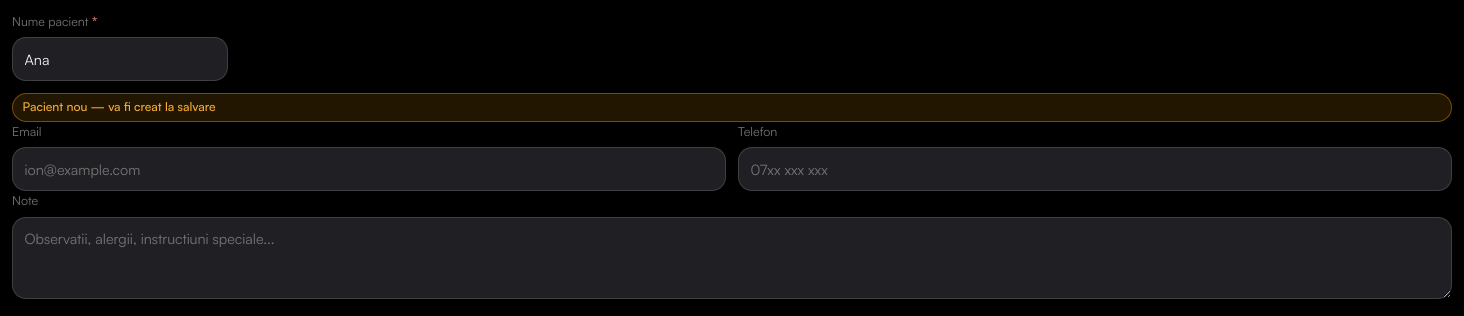
Test case: ClientSection › supports keyboard navigation and selection in the autocomplete dropdown
Focus the dropdown labelled "Nume pacient *" at (120, 59), box [12,37,228,81]
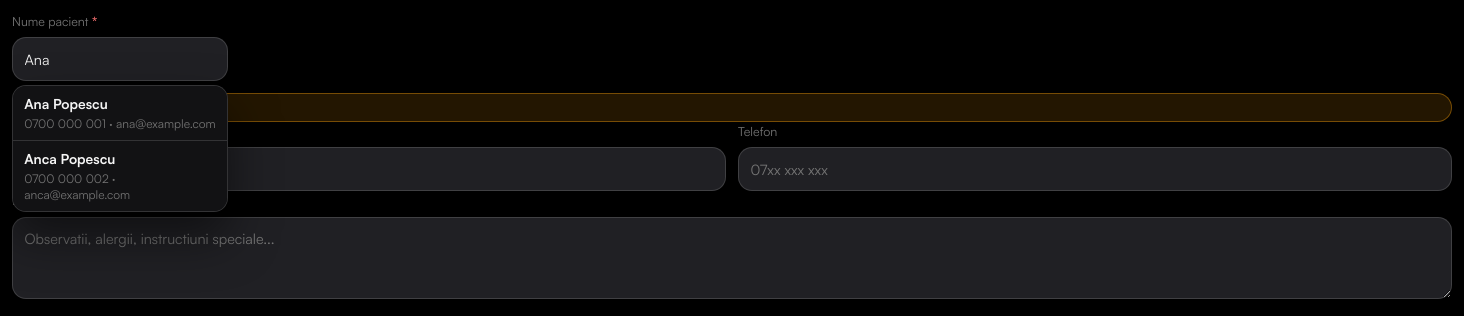
Press ArrowDown in the dropdown labelled "Nume pacient *", box [12,37,228,81]
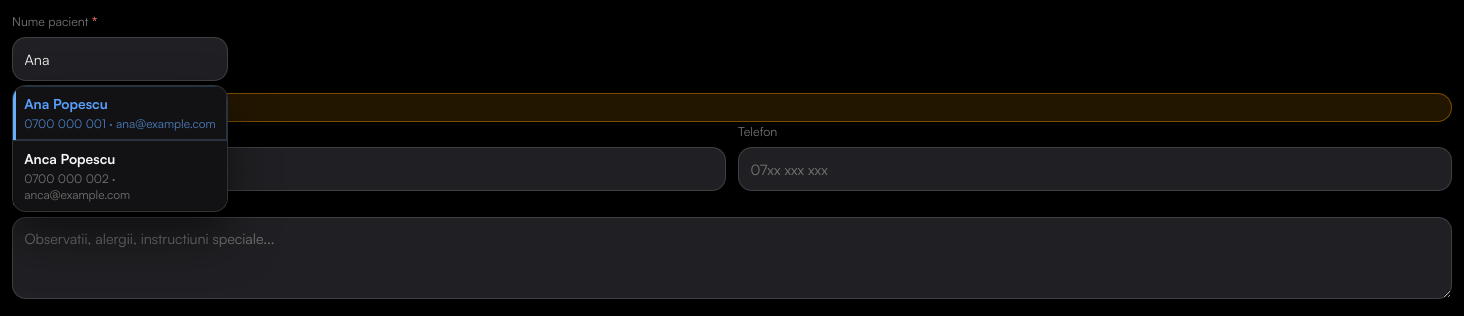
Now the option "Ana Popescu 0700 000 001 · ana@example.com" is selected, box [13,86,227,142]
Press Enter in the dropdown labelled "Nume pacient *", box [12,37,228,81]
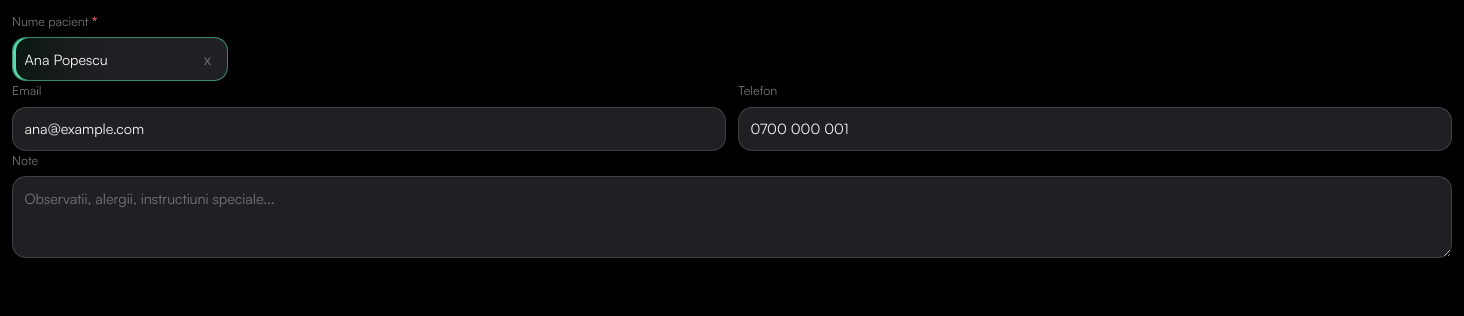
Now the button named "Șterge pacientul selectat" is shown, box [193,45,221,73]
Now the list is gone
